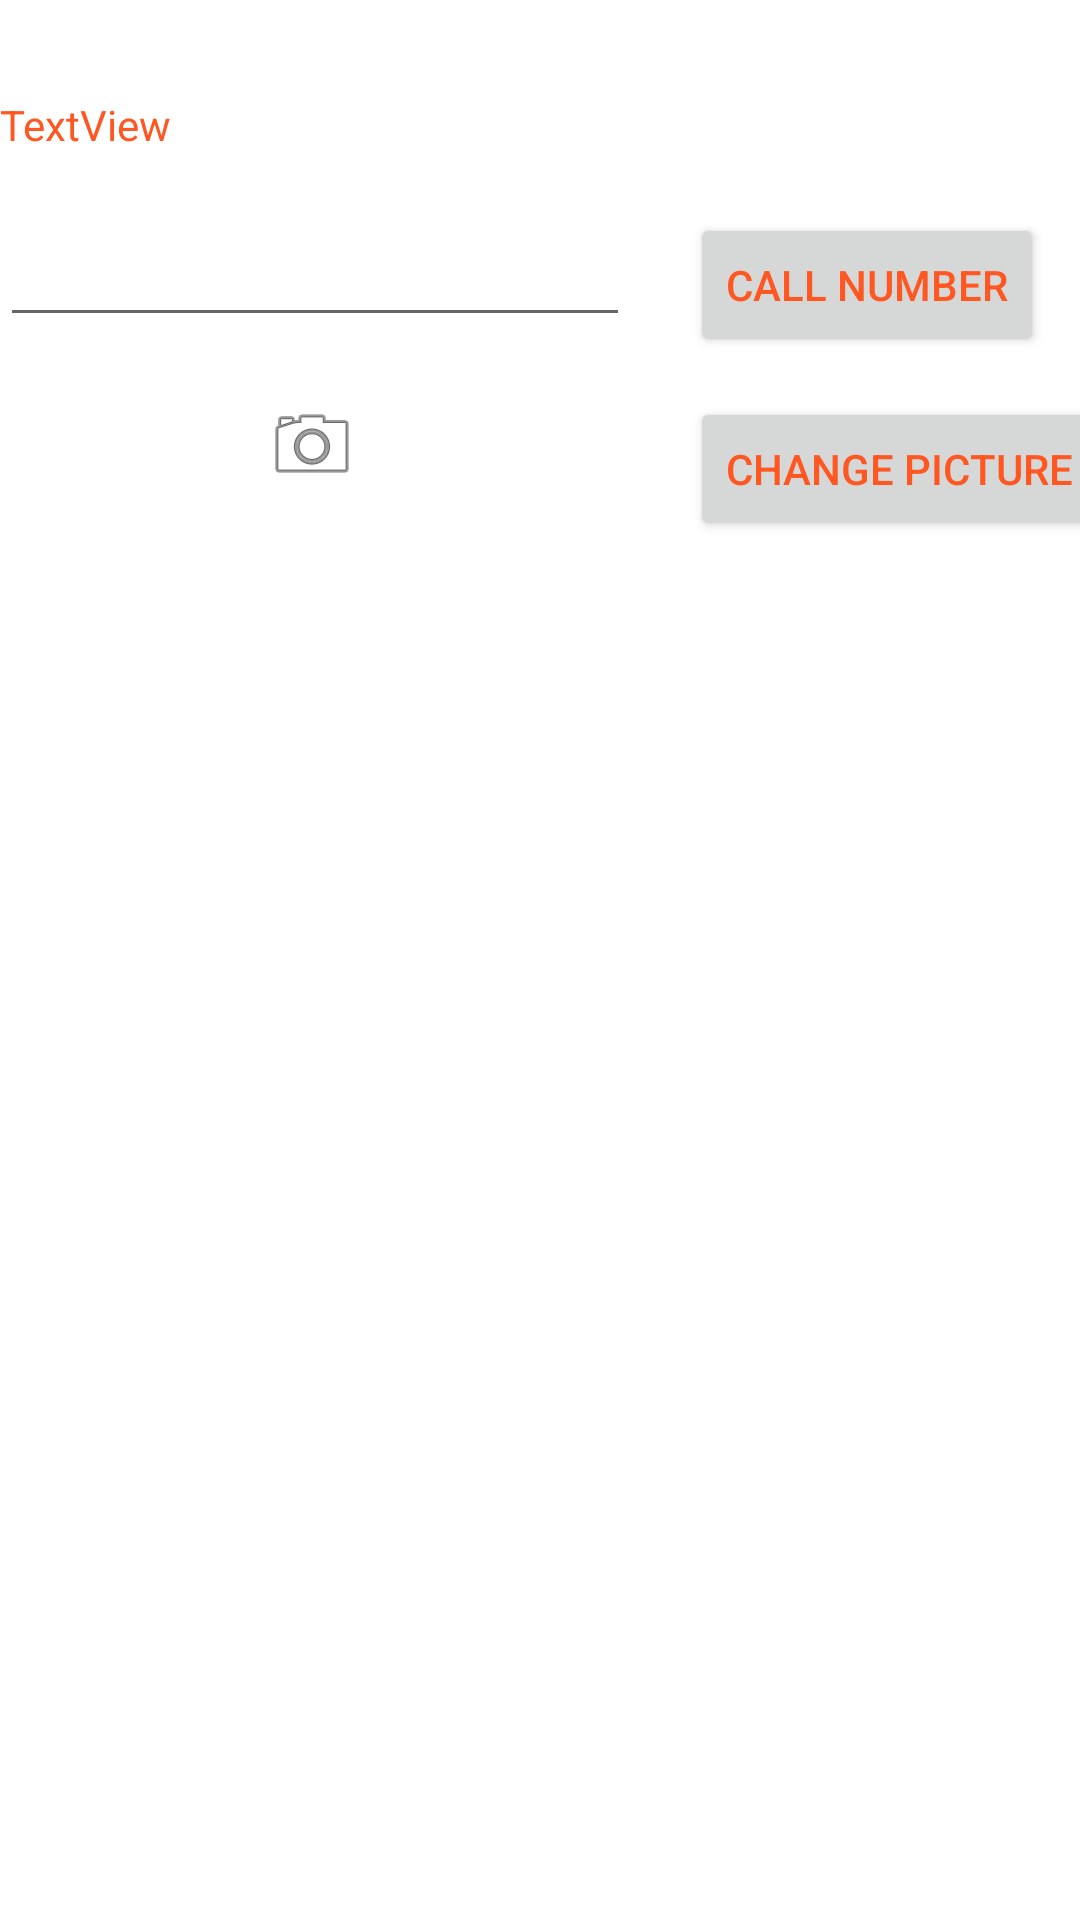

Where icons sit on this 1080x1920 app screen, as bbox=[x1, y1, x2, y2]:
camera: bbox=[275, 414, 349, 473]
